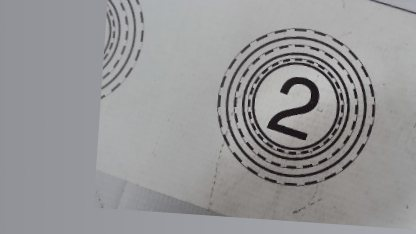2r: (205, 22, 382, 193)
